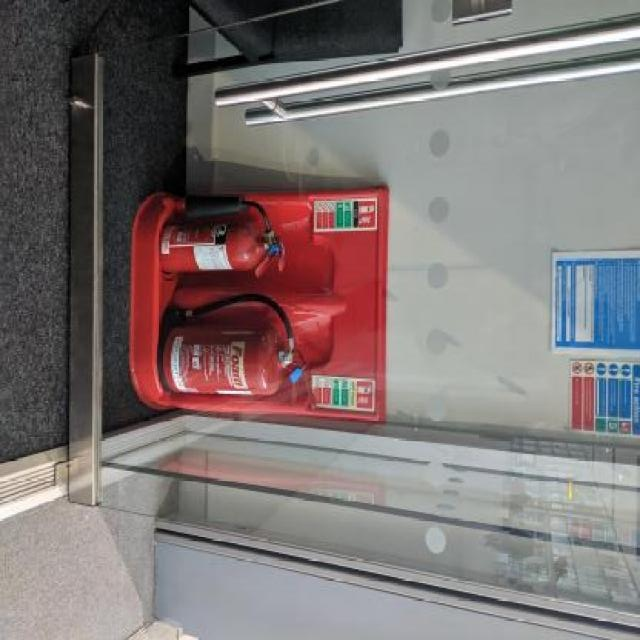fire extinguisher: (157, 293, 314, 404), (160, 199, 282, 278)
